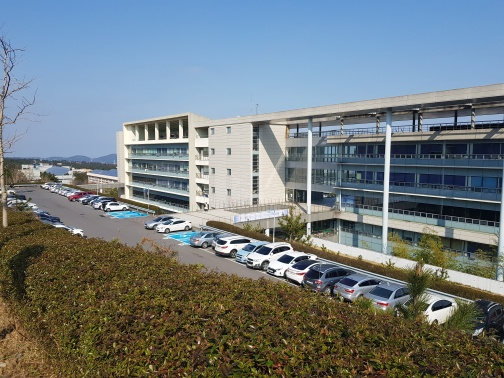Engineering College Building 4: (118, 113, 499, 213), (351, 109, 494, 268), (141, 125, 276, 211)
